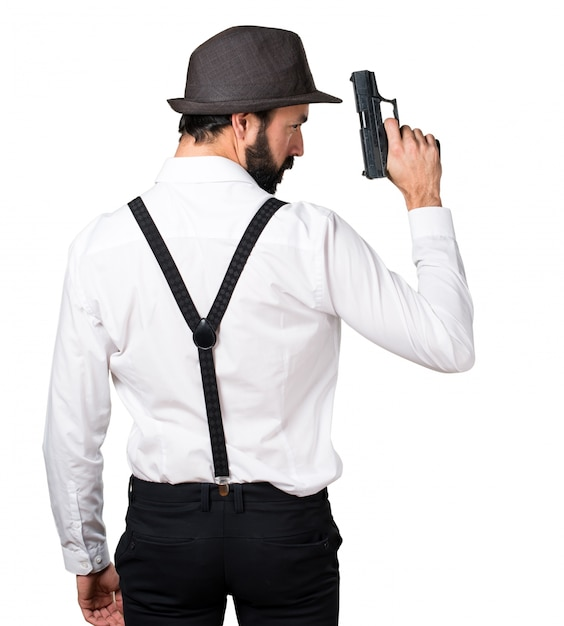gun: (348, 69, 444, 179)
